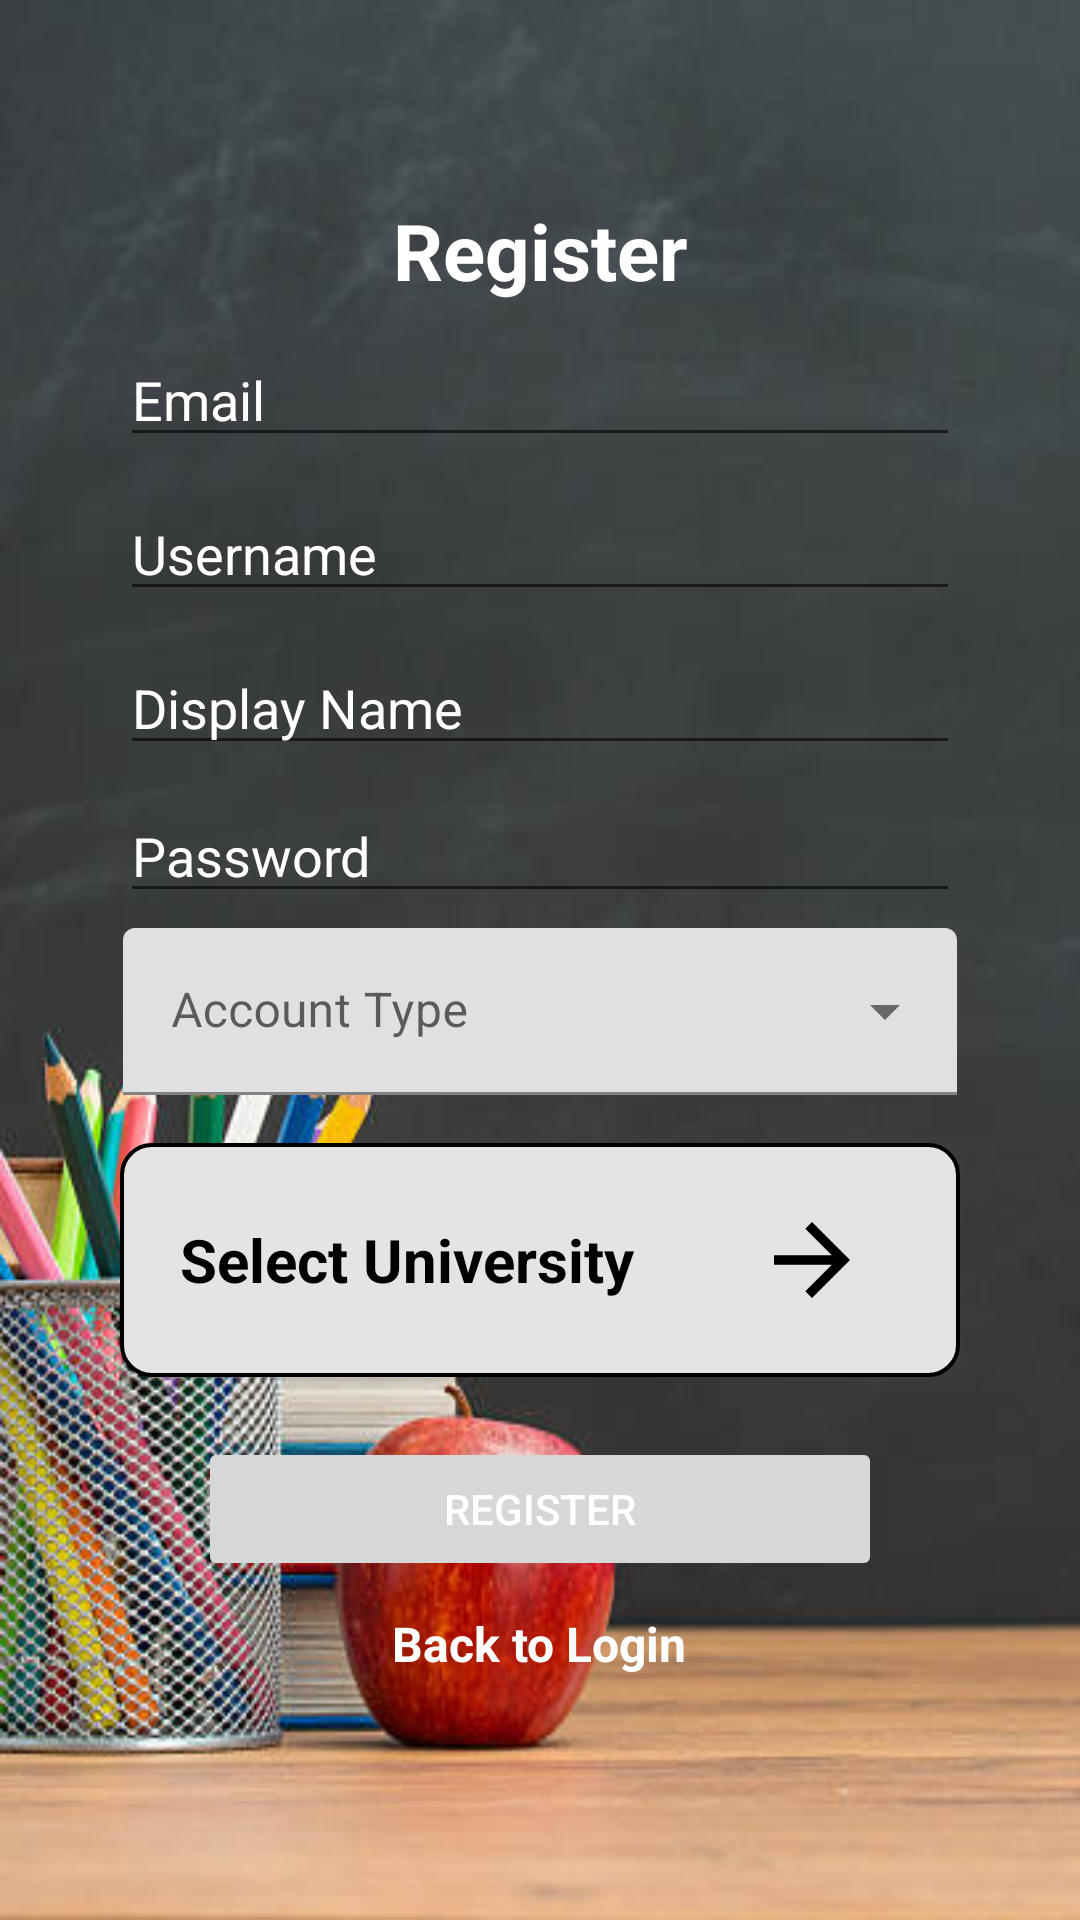

Screen size 1080x1920. Icon name, then its box in pixels as (x1, y1, x2, y2):
arrow forward: (774, 1222, 850, 1298)
